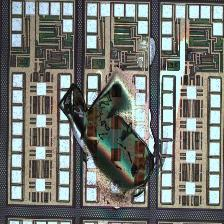PARTICLE: (59, 37, 166, 208)
